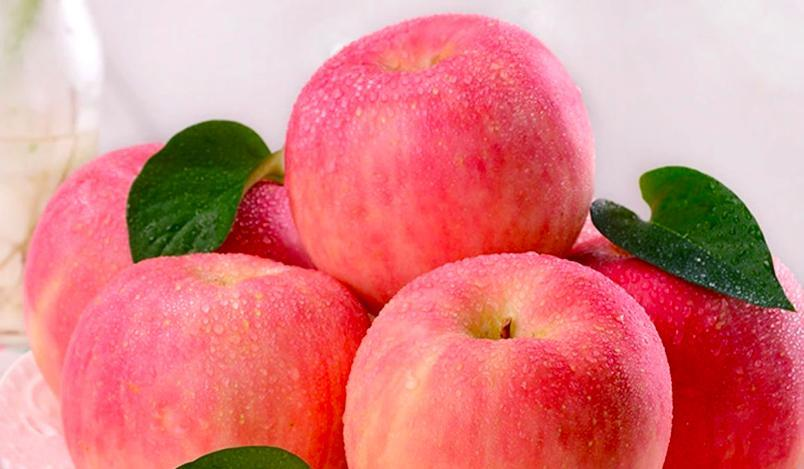apple: (287, 8, 601, 313), (342, 251, 673, 467), (63, 252, 365, 469)
